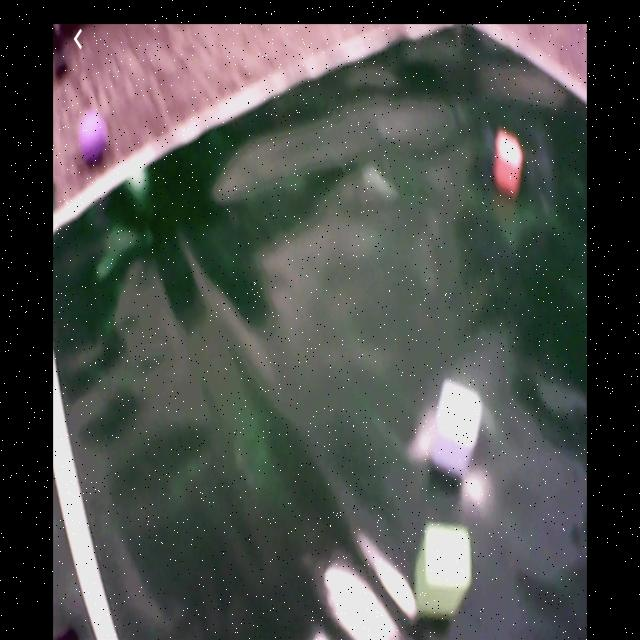ball: (79, 113, 107, 164)
